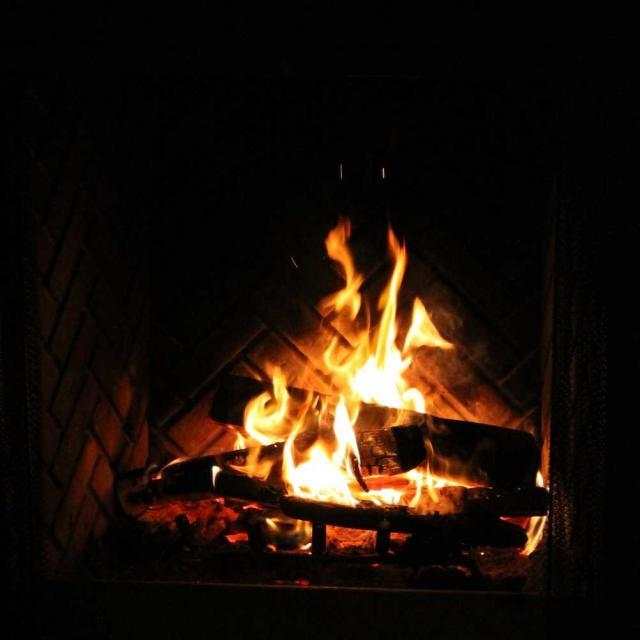Fire: (235, 210, 466, 522)
